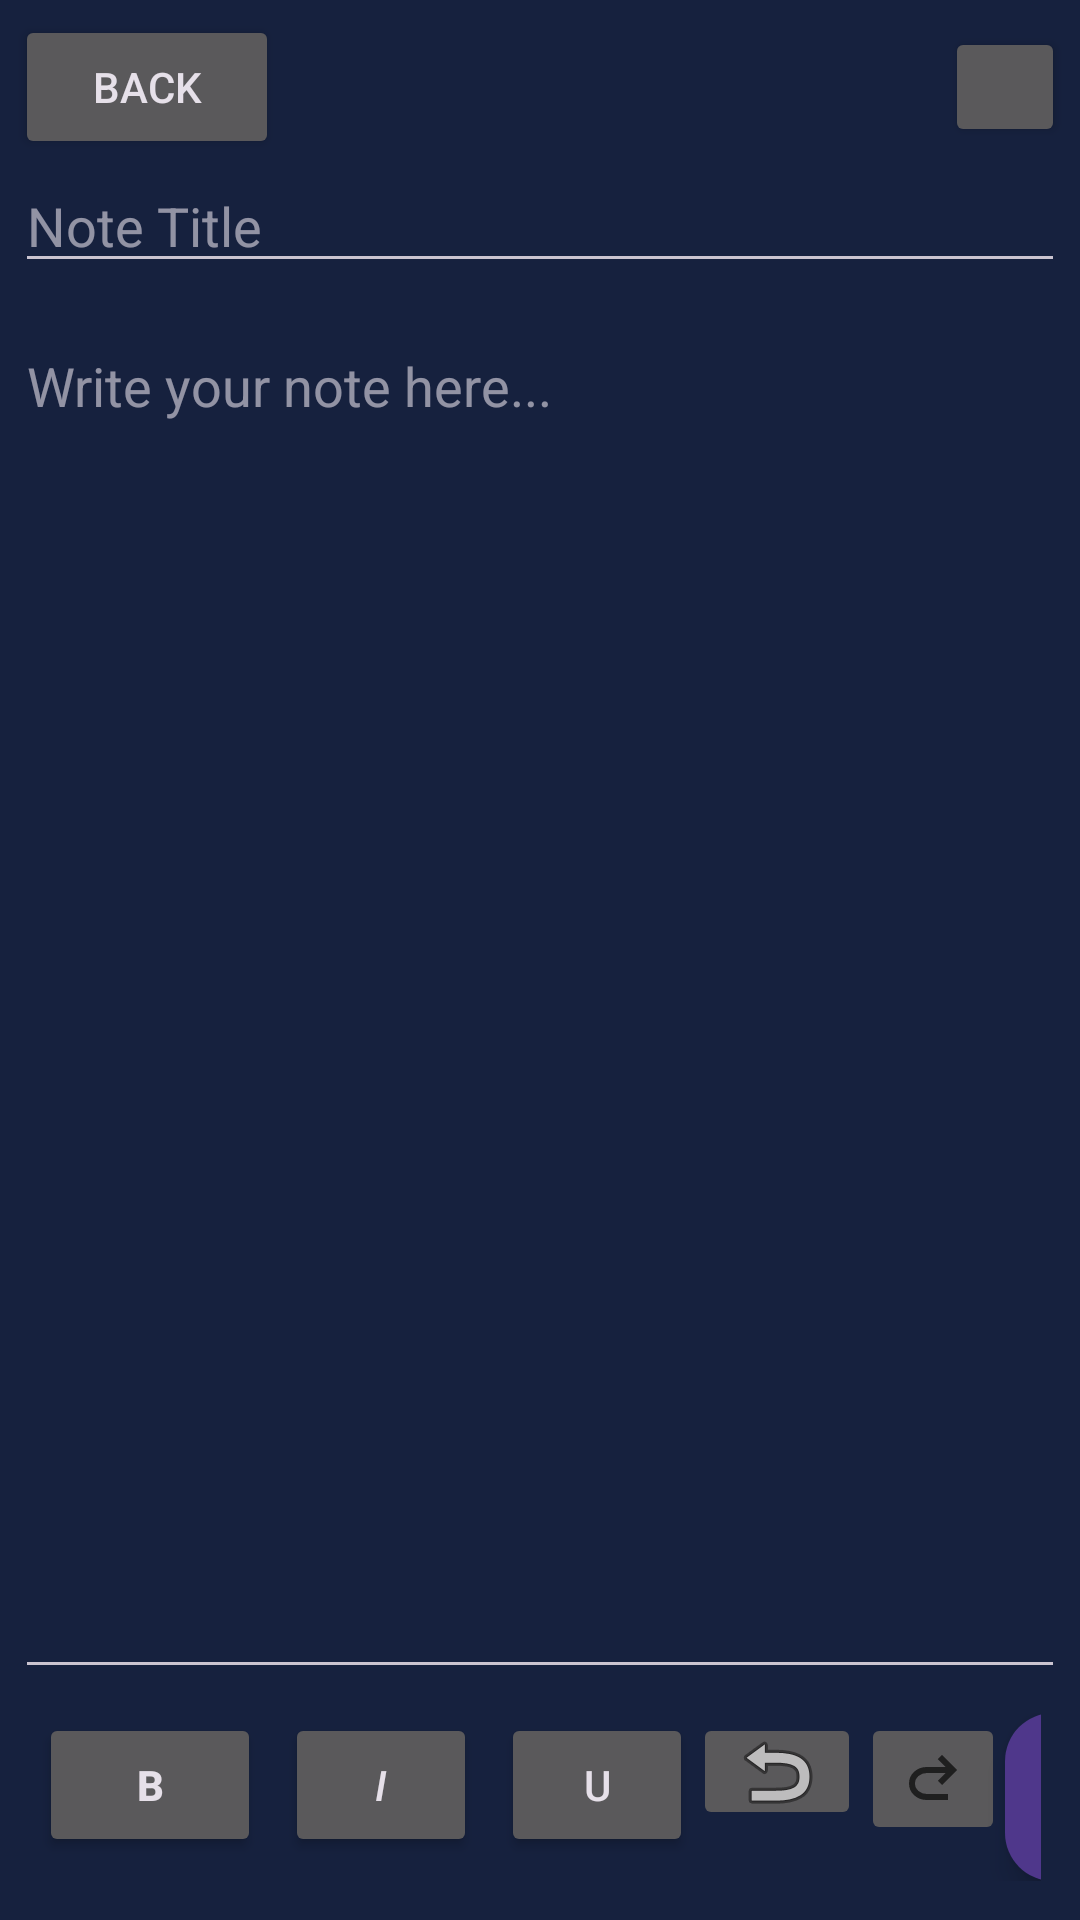

Screen size 1080px×1920px. Icon name, then its center in pixels as [x,y]:
Redo: [933,1779]
revert: [777,1771]
